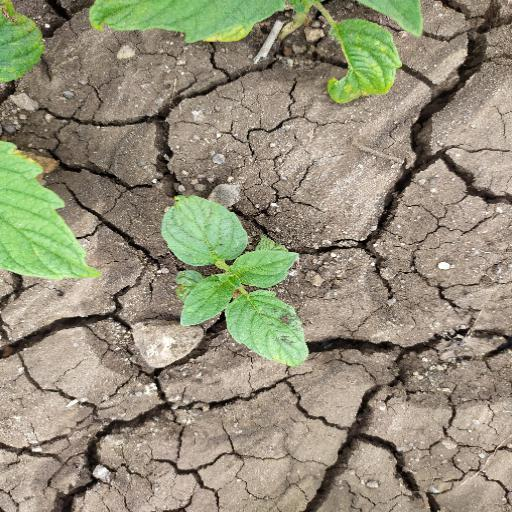crop: (86, 2, 500, 111), (156, 191, 324, 377), (1, 2, 104, 280)
